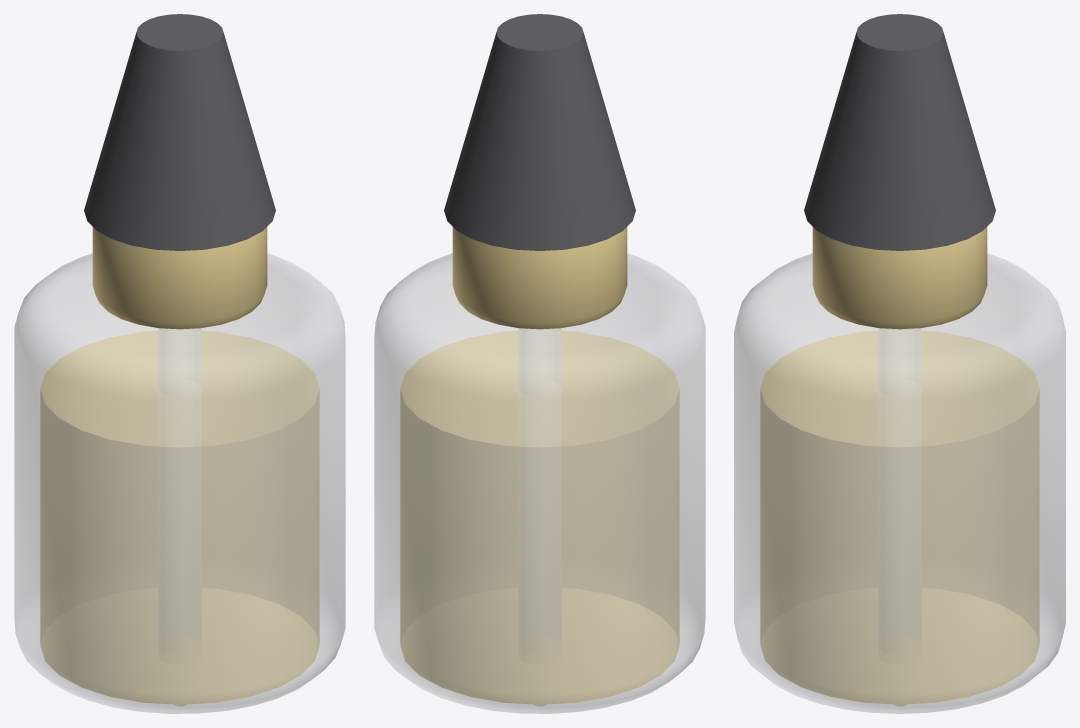
File: cuticle-serum-dropper.glb
3 views of the same model, side by side, from view 1: azimuth 30°, elevation 25°; view 2: azimuth 150°, elevation 25°; view 3: azimuth 270°, elevation 25° (orthographic).
Visible parts, largest first — view 1: serum_GlassBottle, serum_AmberLiquid, serum_RubberBulb, serum_GoldCollar, serum_GlassPipette; view 2: serum_GlassBottle, serum_AmberLiquid, serum_RubberBulb, serum_GoldCollar, serum_GlassPipette; view 3: serum_GlassBottle, serum_AmberLiquid, serum_RubberBulb, serum_GoldCollar, serum_GlassPipette.
Part boxes in pixels (x1,y1,x2,y2): serum_GlassBottle: (14, 253, 345, 713); serum_AmberLiquid: (40, 330, 319, 704); serum_RubberBulb: (84, 14, 275, 250); serum_GoldCollar: (92, 227, 267, 329); serum_GlassPipette: (158, 328, 201, 642); serum_GlassBottle: (374, 253, 705, 713); serum_AmberLiquid: (400, 330, 679, 704); serum_RubberBulb: (444, 14, 635, 250); serum_GoldCollar: (452, 227, 627, 329); serum_GlassPipette: (518, 328, 561, 642); serum_GlassBottle: (734, 253, 1065, 713); serum_AmberLiquid: (760, 330, 1039, 704); serum_RubberBulb: (804, 14, 995, 250); serum_GoldCollar: (812, 227, 987, 329); serum_GlassPipette: (878, 328, 921, 641).
Bounding box in the file's own units: 0.076 × 0.1701 × 0.076.
